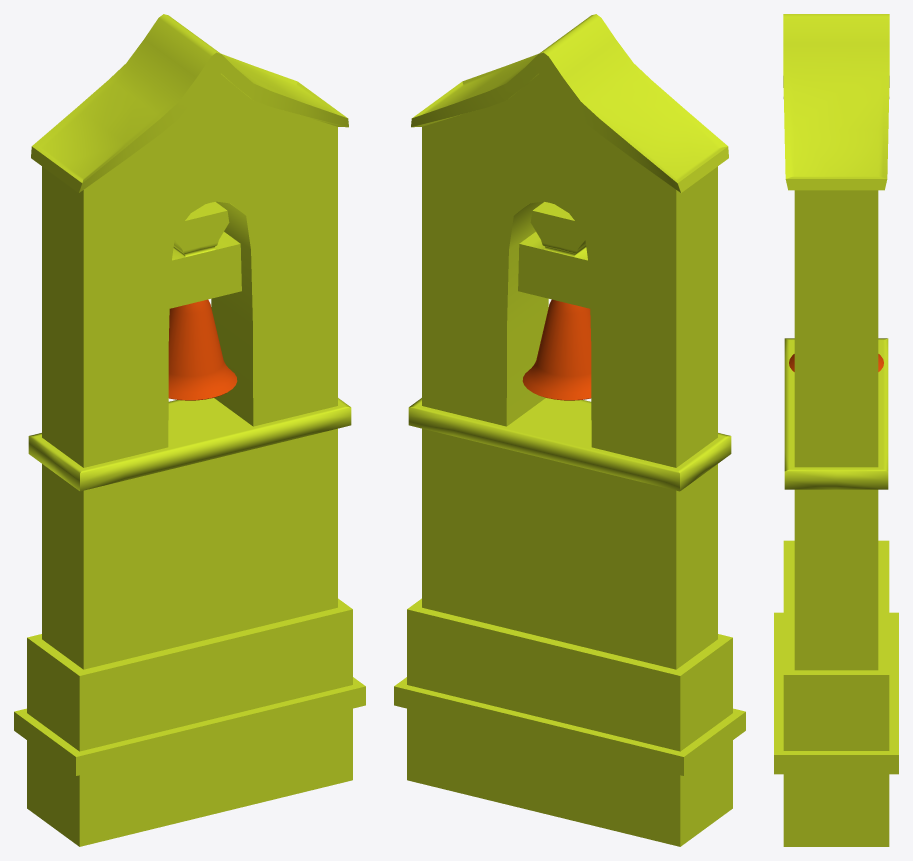
The model's file is Bell.fbx.
3 renders of one model, left to right at view 1: azimuth 30°, elevation 25°; view 2: azimuth 150°, elevation 25°; view 3: azimuth 270°, elevation 25°, orthographic.
Visible parts, largest first — view 1: BellWall.001, Bell; view 2: BellWall.001, Bell; view 3: BellWall.001.
Boxes of the visible parts, x1,y1,x2,y2 form: BellWall.001: (14, 14, 365, 846); Bell: (168, 299, 237, 400); BellWall.001: (394, 14, 745, 846); Bell: (522, 299, 591, 400); BellWall.001: (774, 14, 898, 846).
Bounding box in the file's own units: 6.36 × 15.96 × 2.36.
